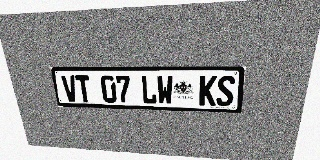0: (100, 75, 117, 103)
7: (115, 75, 132, 103)
K: (199, 75, 217, 106)
L: (141, 75, 157, 104)
S: (216, 76, 236, 106)
T: (75, 75, 92, 102)
V: (61, 75, 79, 102)
W: (157, 75, 173, 105)
